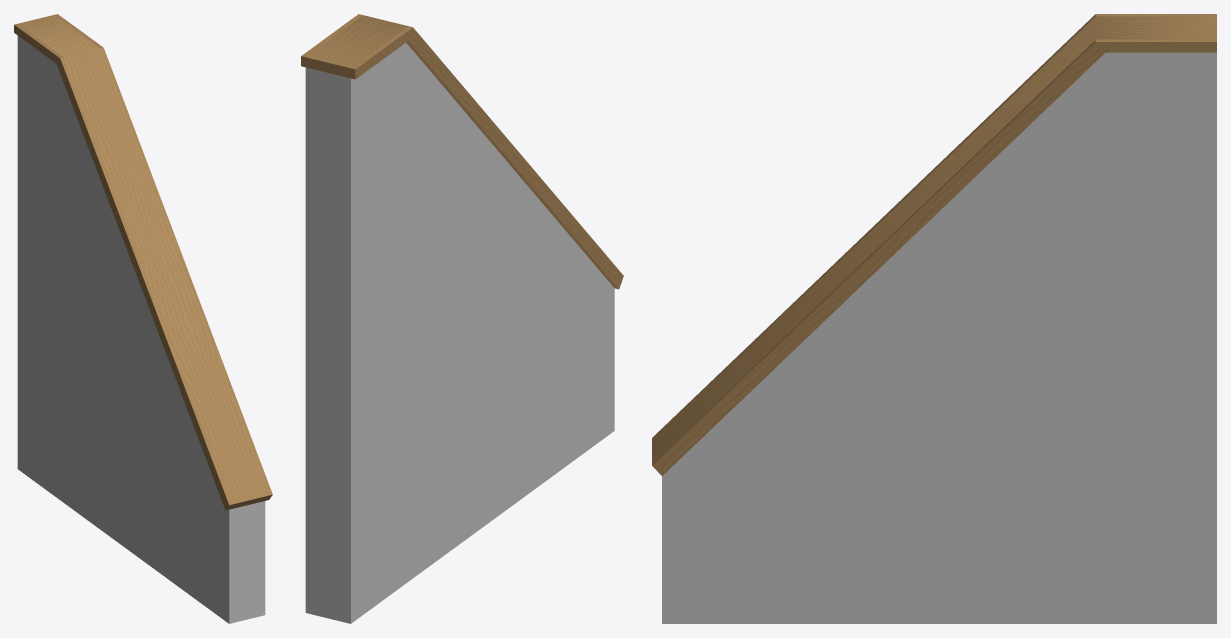
File: Railing_Tan_01.FBX
3 views of the same model, side by side, from view 1: azimuth 30°, elevation 25°; view 2: azimuth 150°, elevation 25°; view 3: azimuth 270°, elevation 25° (orthographic). The views are drawn at different scales.
Visible parts, largest first — view 1: Stair_Rail_Wall_5m; view 2: Stair_Rail_Wall_5m; view 3: Stair_Rail_Wall_5m.
Part boxes in pixels (x1=…): Stair_Rail_Wall_5m: x1=14, y1=14, x2=272, y2=623; Stair_Rail_Wall_5m: x1=301, y1=14, x2=623, y2=623; Stair_Rail_Wall_5m: x1=652, y1=14, x2=1216, y2=623.
Size of the model in its own units: 2367 by 23113 by 20240.
